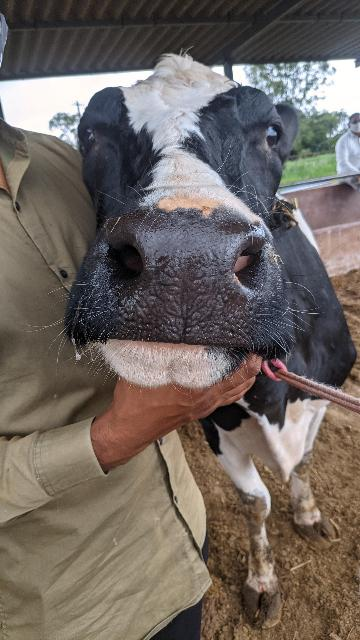Muzzle: (121, 222, 255, 346)
